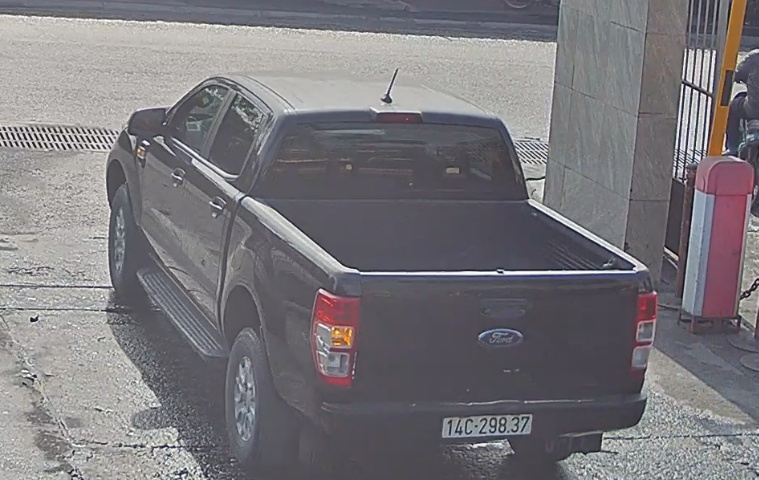vehicle plate: (436, 409, 537, 441)
